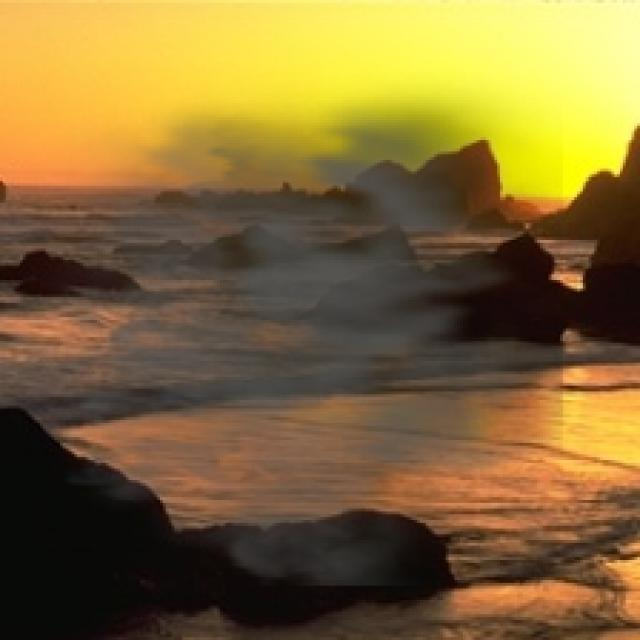Smoke: (11, 71, 563, 586)
